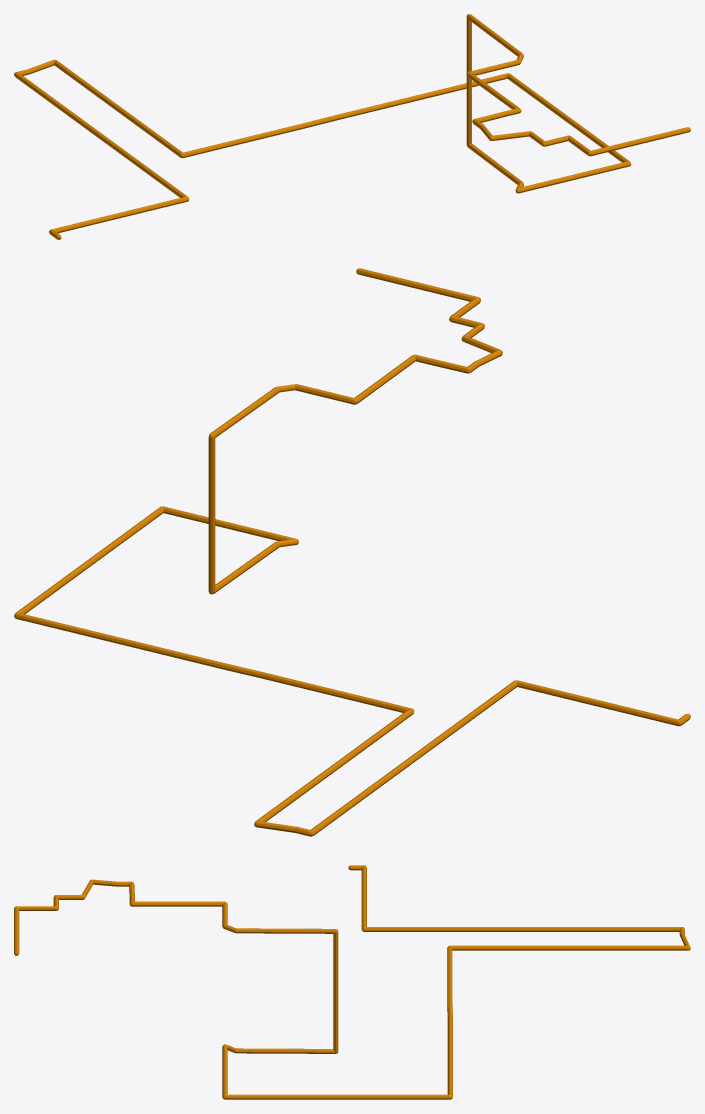
The picture shows the model from 3 angles, top to bottom: view 1: azimuth 30°, elevation 25°; view 2: azimuth 150°, elevation 25°; view 3: azimuth 270°, elevation 25°; orthographic projection. The views are drawn at different scales.
Bounding box in the file's own units: 2068 × 520 × 2554.
